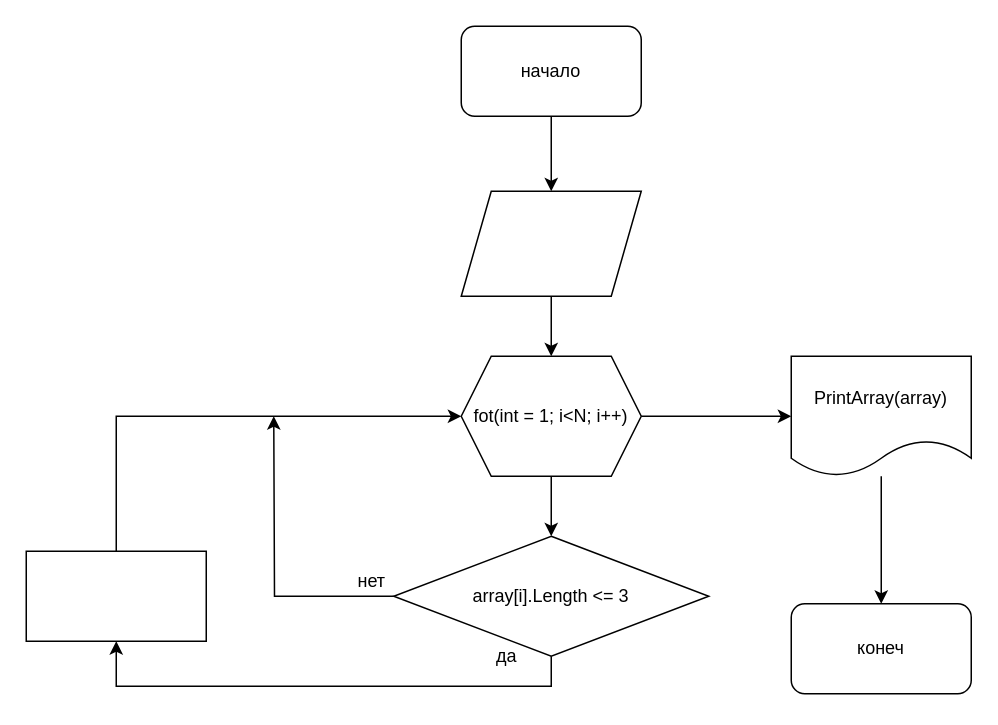
The diagram is 998 pixels wide and 725 high, and some of its shapes have lost their labels. Here are the shapes that lost their labels. From the top down, the centre of each, then its label:
At point 550,243: "string[] array int a = 0".
At point 115,595: "array[a]= array [i]; a++".
